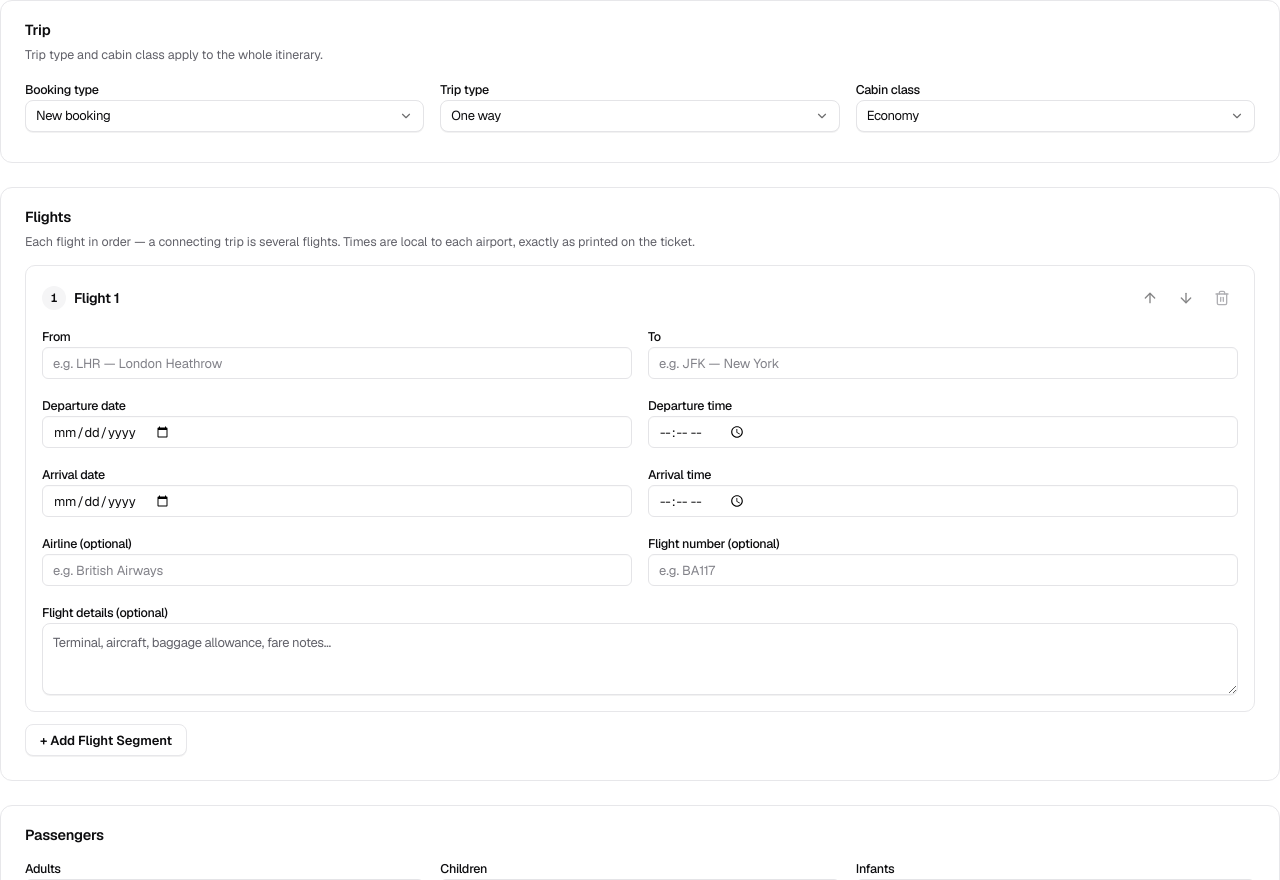
Scenario: CreateFlightOrderForm — the From suggestion › pre-fills the new flight's From with the previous To and focuses its To
The image size is (1280, 880).
Step 1. Type "Delhi" into the field labelled "From" → (337,363), box [42, 347, 632, 379]
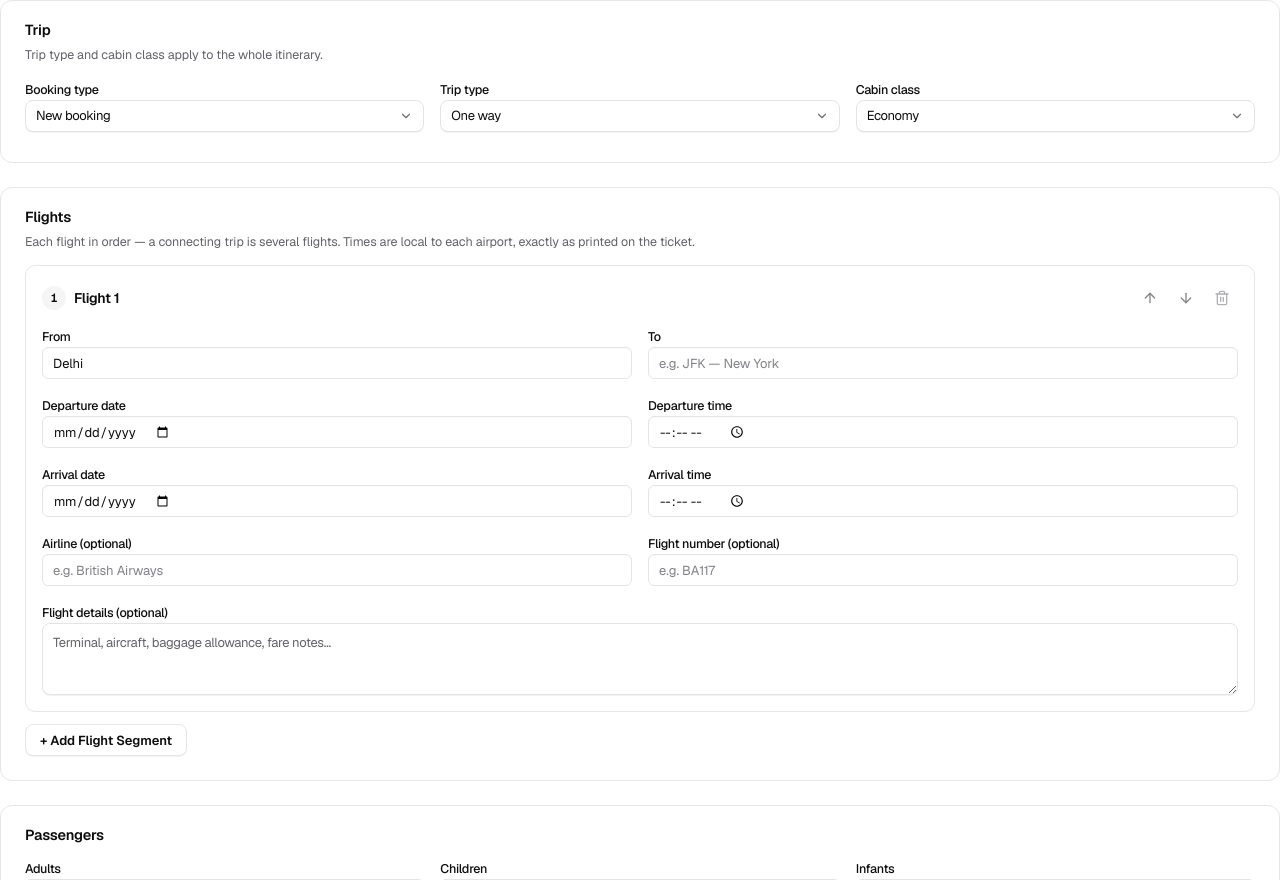
Step 2. Type "Varanasi" into the field labelled "To" → (943,363), box [648, 347, 1238, 379]
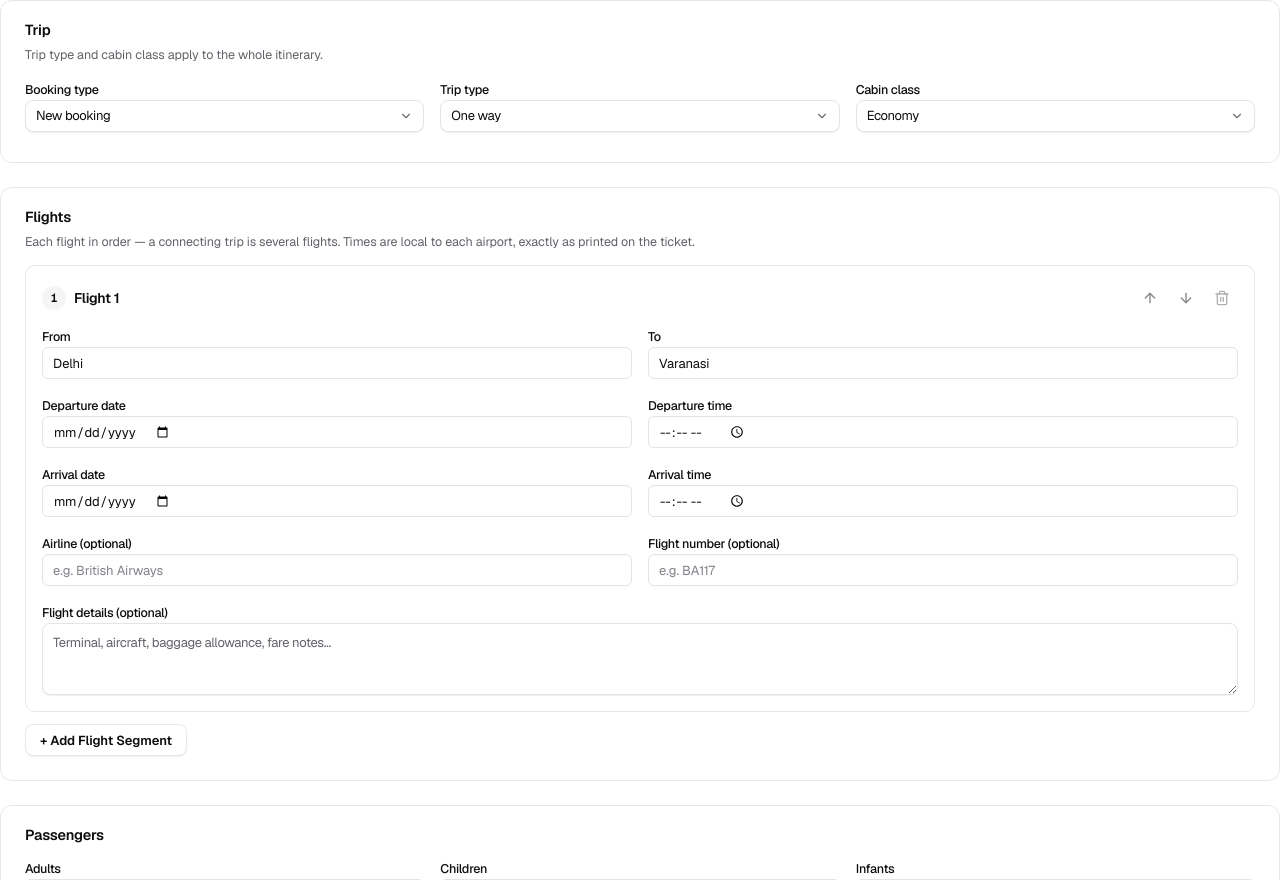
Step 3. Click the button "+ Add Flight Segment" → (106,740), box [25, 724, 187, 756]
(page scrolled)
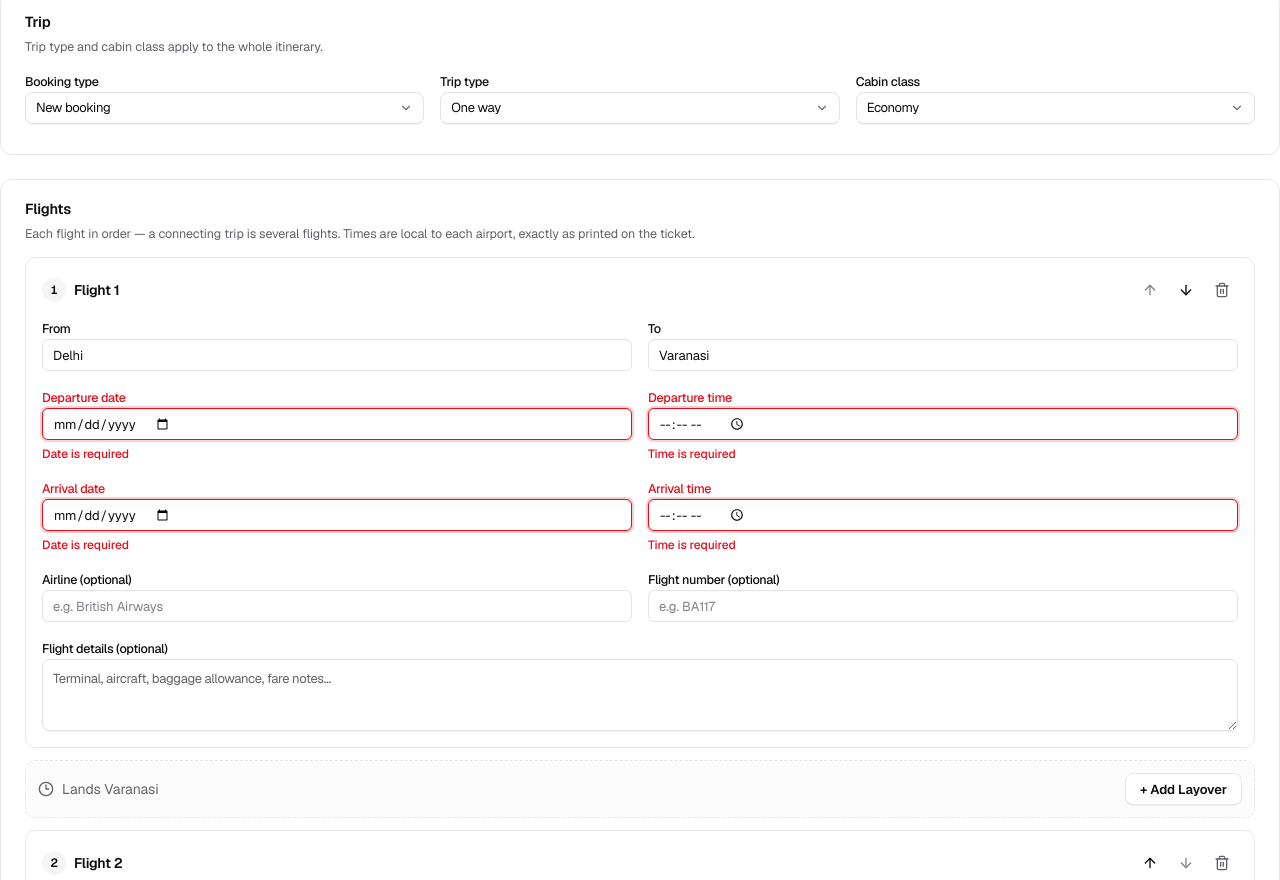
Expected: the button "+ Add Layover" is shown, [1125, 773, 1242, 805]
